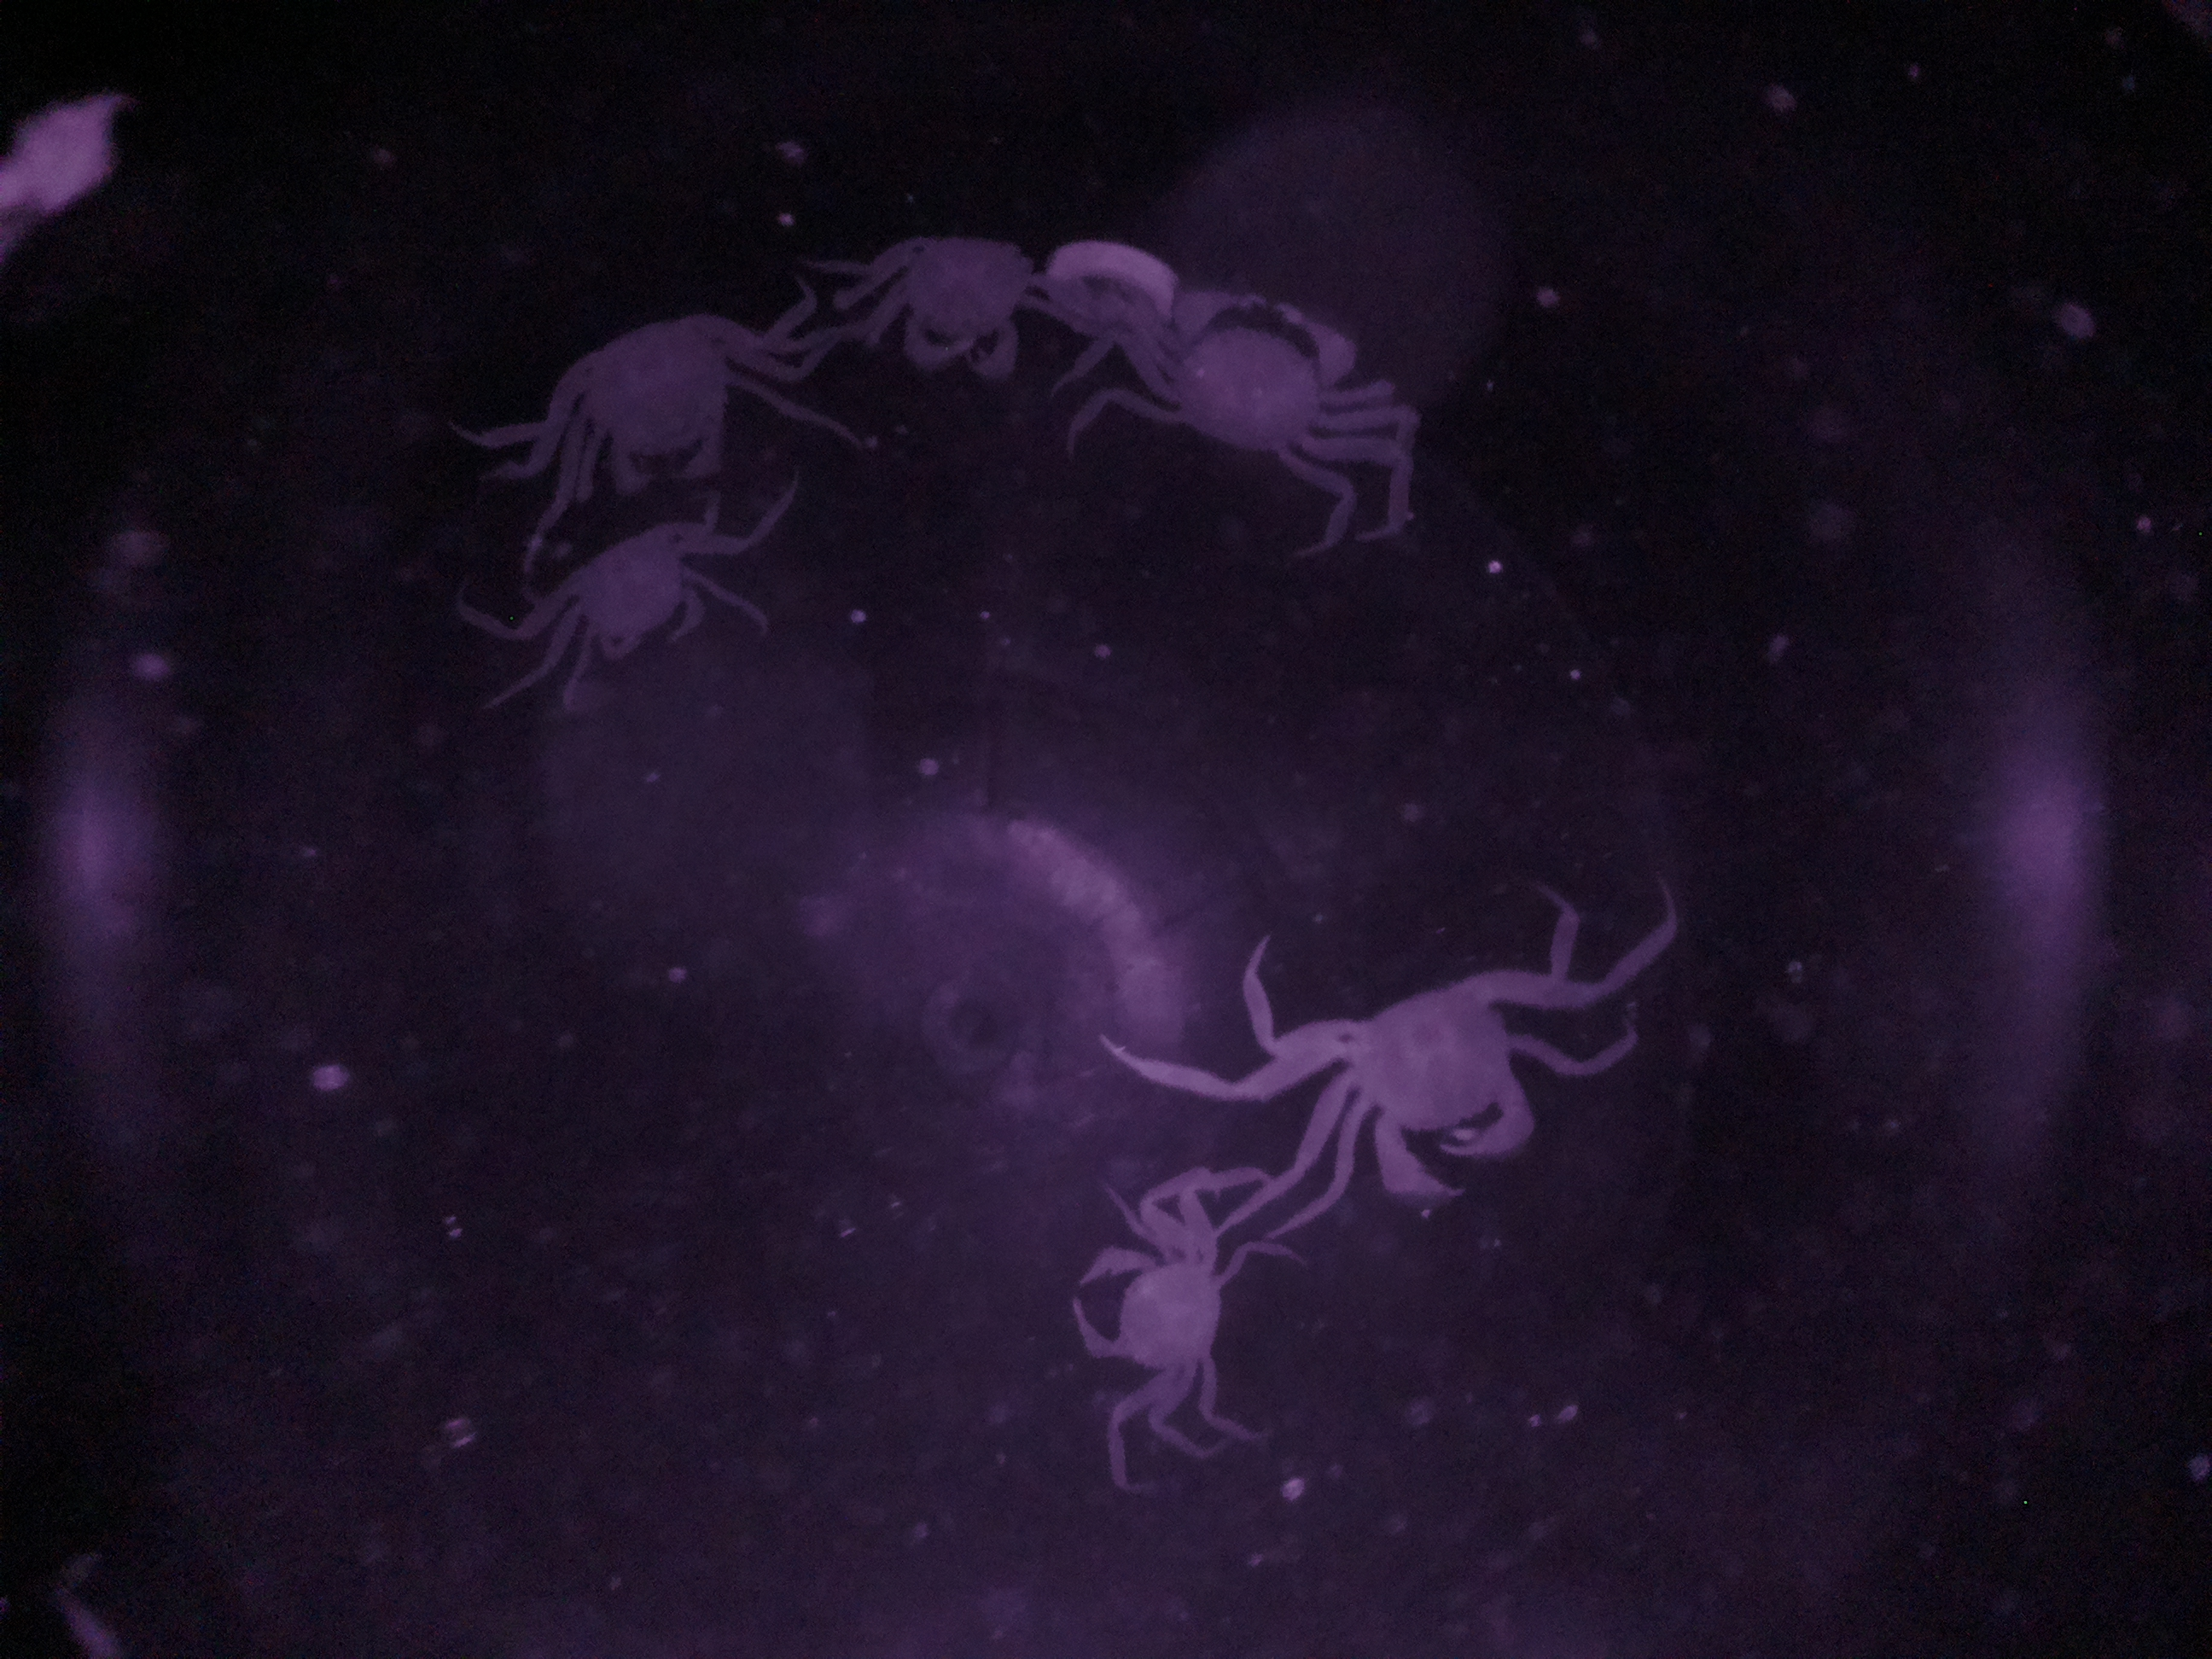Crab: (1271, 950, 1571, 1206), (1118, 277, 1397, 476), (517, 282, 751, 504), (519, 516, 740, 687), (1068, 1202, 1251, 1406), (860, 232, 1057, 394)
